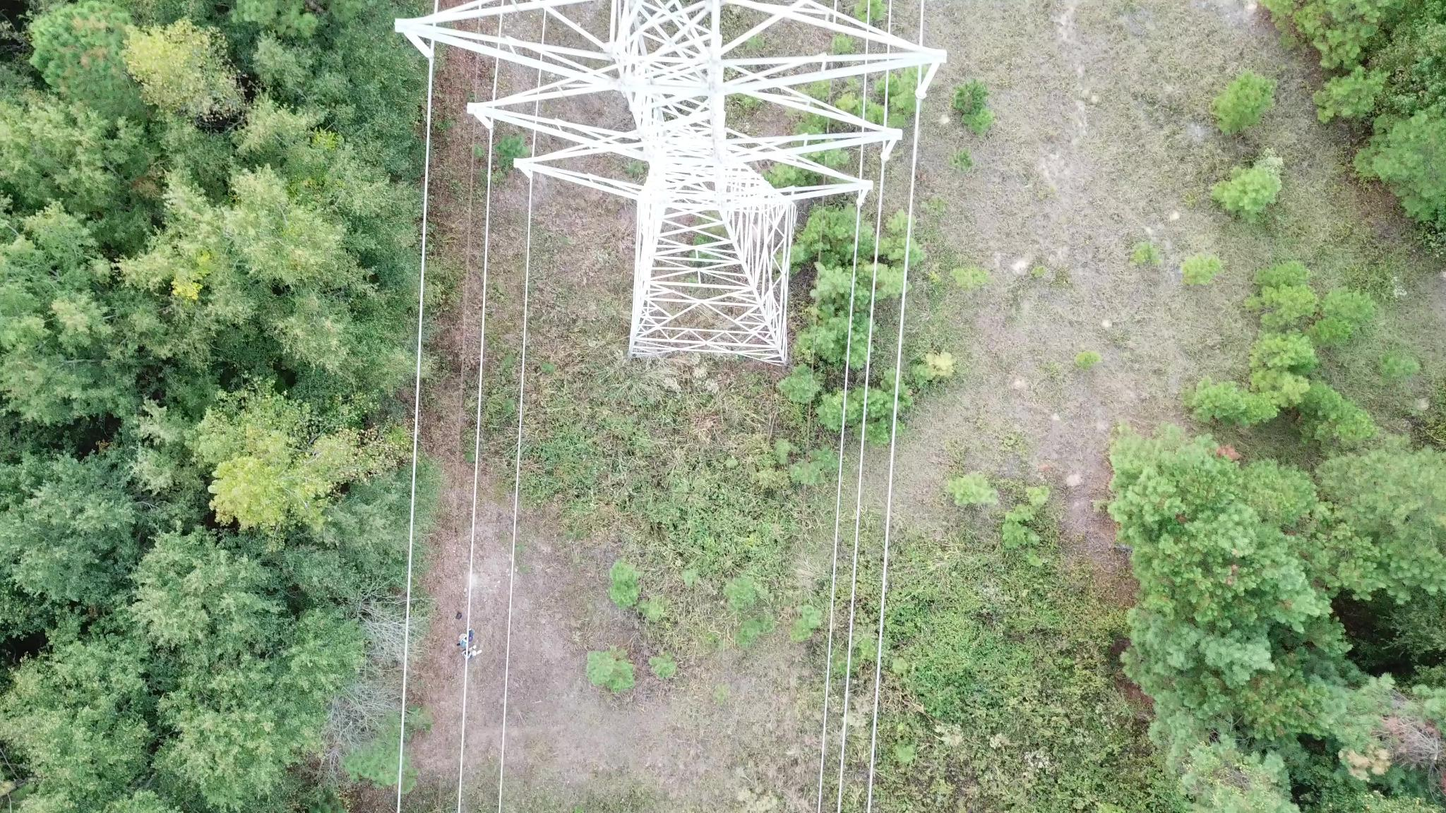tower: (392, 1, 949, 370)
